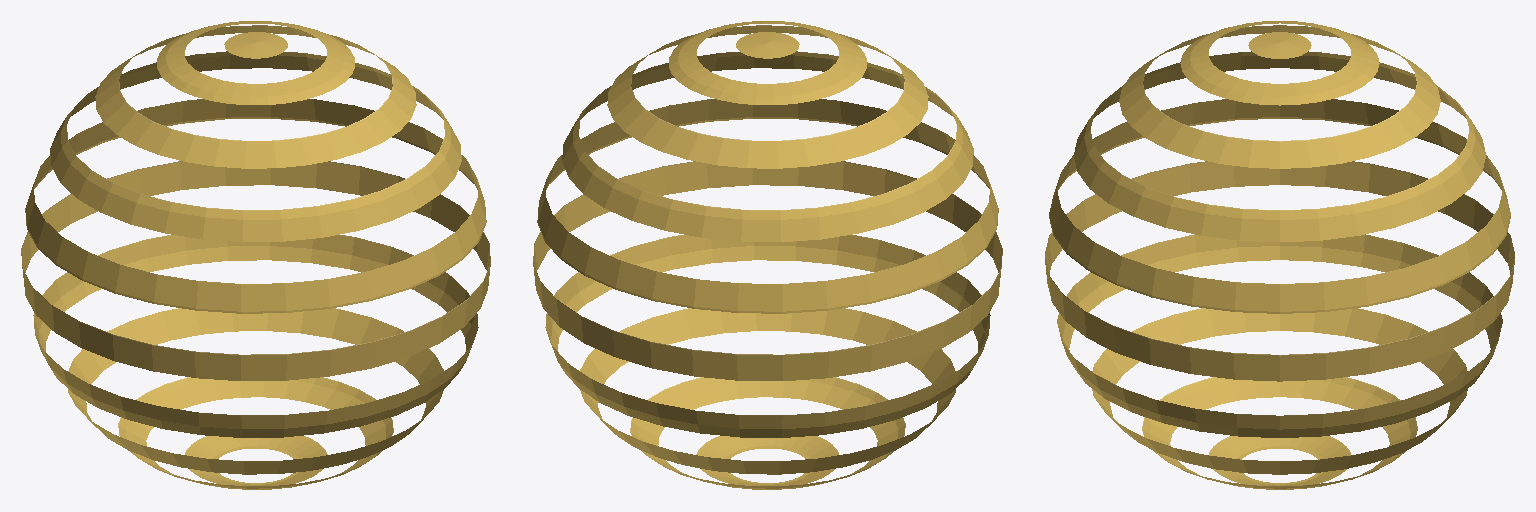
3 renders of one model, left to right at view 1: azimuth 30°, elevation 25°; view 2: azimuth 150°, elevation 25°; view 3: azimuth 270°, elevation 25°, orthographic.
Visible parts, largest first — view 1: 球.001; view 2: 球.001; view 3: 球.001.
Part boxes in pixels (x1,y1,x2,y2): 球.001: (21, 21, 490, 489); 球.001: (533, 21, 1002, 489); 球.001: (1045, 21, 1514, 489).
Size of the model in its own units: 10 by 10 by 10.
1 materials, 1 textured.